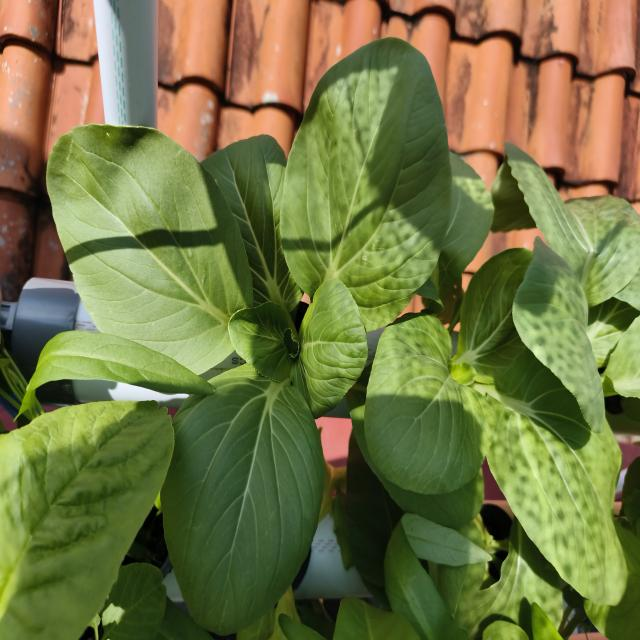daun-pakcoy: (47, 124, 252, 374), (281, 38, 451, 331), (161, 364, 324, 634), (201, 135, 301, 317), (291, 279, 367, 418), (229, 301, 301, 382), (530, 261, 640, 300)
